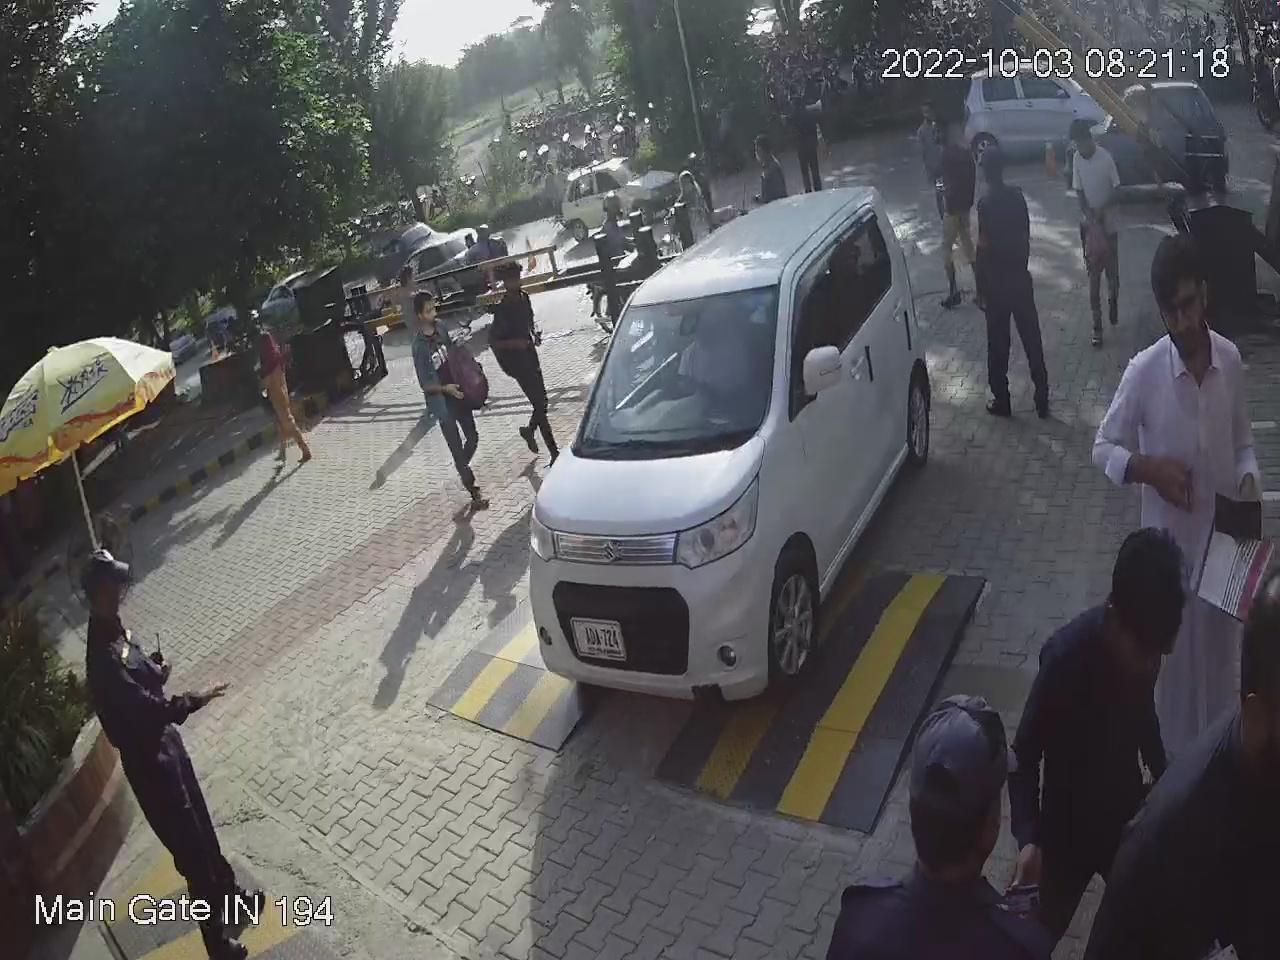windshield: (570, 272, 796, 453)
